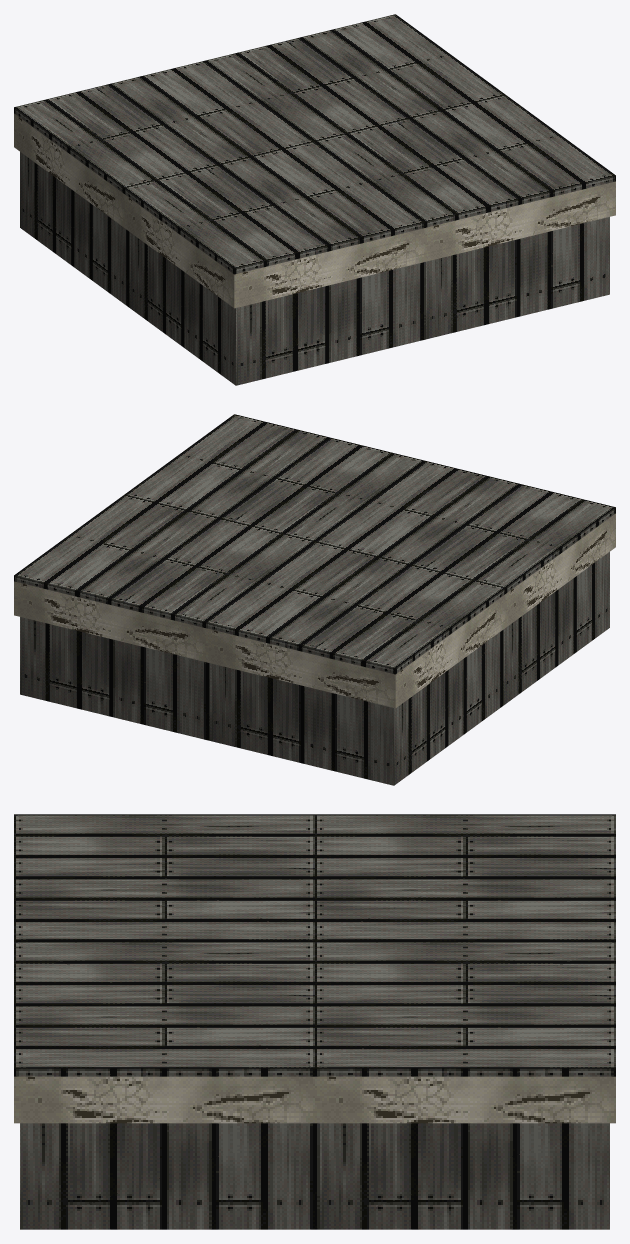
Rendered from house_porch_floor.glb.
3 views of the same model, one above another, from view 1: azimuth 30°, elevation 25°; view 2: azimuth 150°, elevation 25°; view 3: azimuth 270°, elevation 25° (orthographic). The views are drawn at different scales.
Parts seen in each view (by area): view 1: house_porch_floor; view 2: house_porch_floor; view 3: house_porch_floor.
Part boxes in pixels (x1,y1,x2,y2): house_porch_floor: (14, 14, 615, 385); house_porch_floor: (14, 414, 615, 785); house_porch_floor: (14, 814, 615, 1229).
Bounding box in the file's own units: 2 × 0.6 × 2.
Materials: 2 (2 with a texture image).
